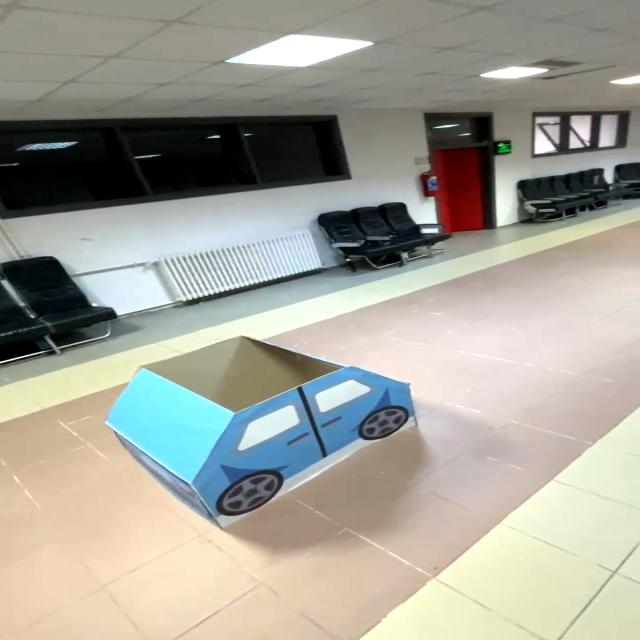blue_car: (77, 332, 450, 542)
